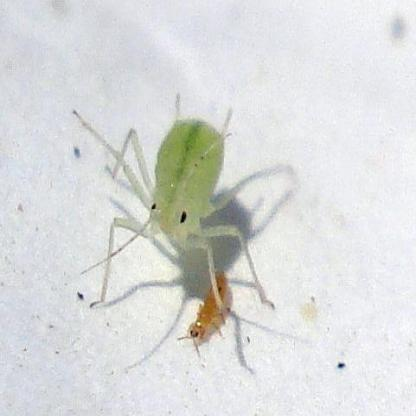aphid: (80, 88, 282, 307), (176, 268, 238, 353)
